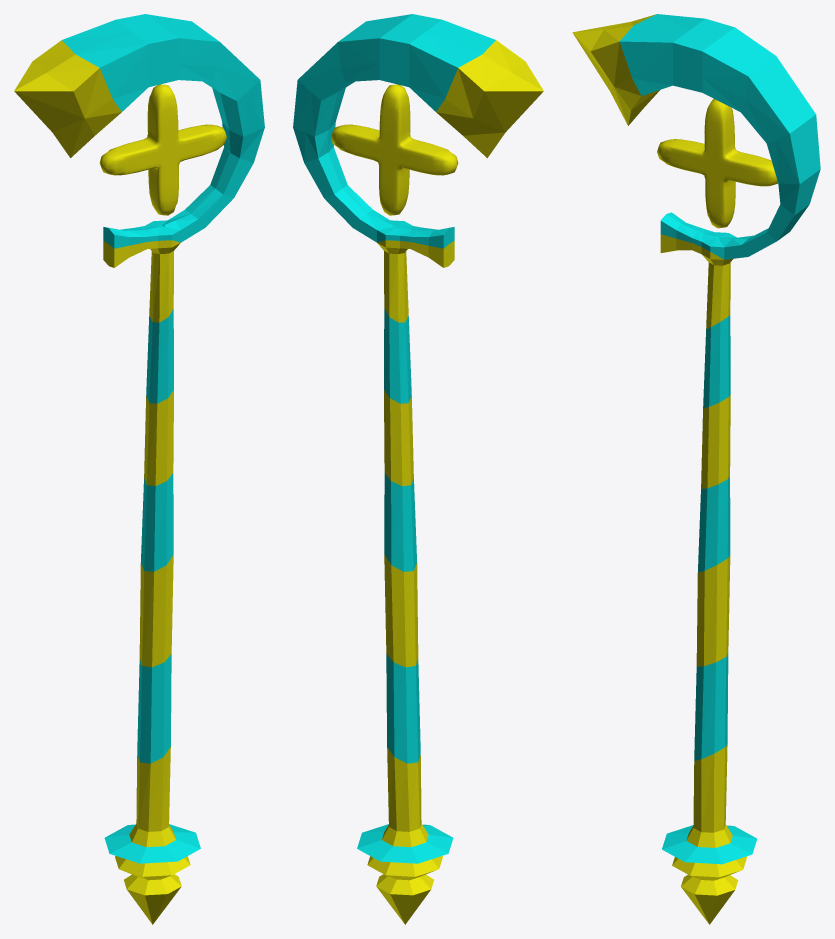
3 views of the same model, side by side, from view 1: azimuth 30°, elevation 25°; view 2: azimuth 150°, elevation 25°; view 3: azimuth 330°, elevation 25° (orthographic).
Visible parts, largest first — view 1: bcaulo, X; view 2: bcaulo, X; view 3: bcaulo, X.
Boxes of the visible parts, left/top/right/bottom form: bcaulo: left=14, top=14, right=264, bottom=924; X: left=99, top=84, right=226, bottom=215; bcaulo: left=293, top=14, right=543, bottom=924; X: left=331, top=84, right=458, bottom=215; bcaulo: left=572, top=14, right=820, bottom=924; X: left=657, top=98, right=777, bottom=228.
Size of the model in its own units: 27.5 by 98.22 by 9.91.
